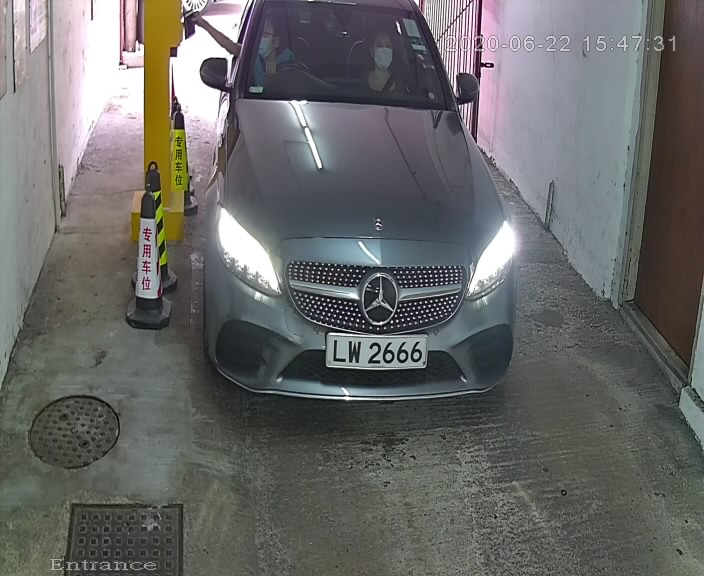privatecar: (180, 1, 556, 448)
